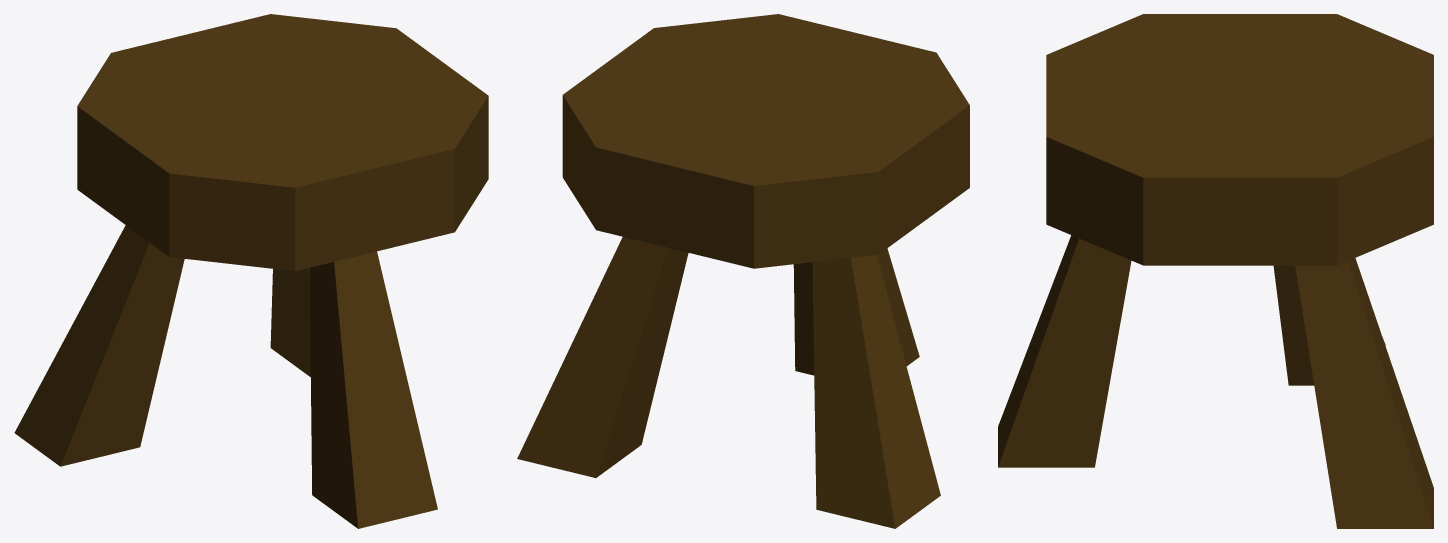
File: obj_stool_2_0.obj
The picture shows the model from 3 angles, left to right: view 1: azimuth 30°, elevation 25°; view 2: azimuth 150°, elevation 25°; view 3: azimuth 270°, elevation 25°; orthographic projection. The views are drawn at different scales.
Size of the model in its own units: 0.5625 by 0.5 by 0.5625.
